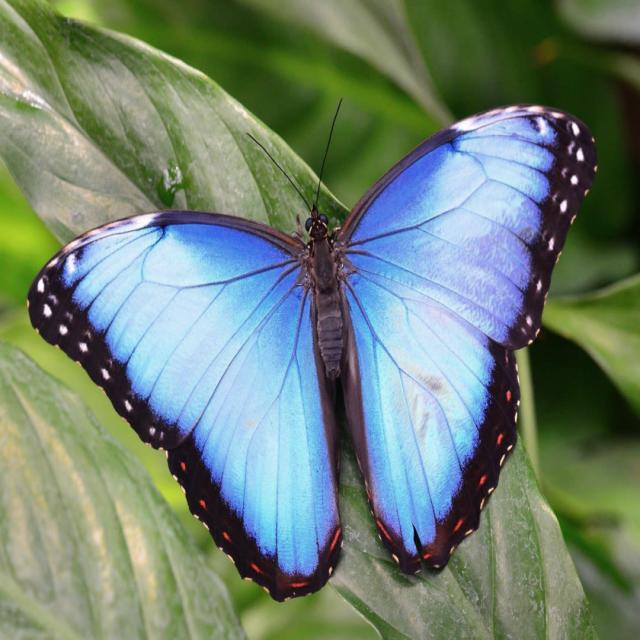butterfly: (28, 106, 596, 601)
